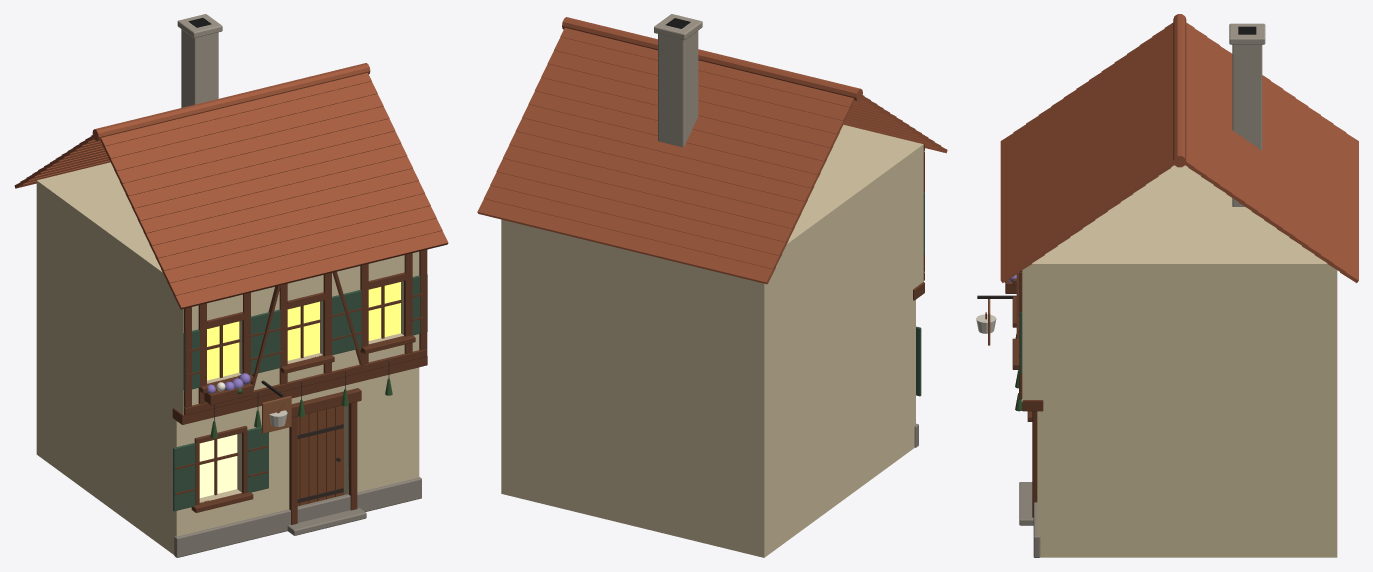
File: botica.glb
3 views of the same model, side by side, from view 1: azimuth 30°, elevation 25°; view 2: azimuth 150°, elevation 25°; view 3: azimuth 270°, elevation 25° (orthographic). The views are drawn at different scales.
Parts seen in each view (by area): view 1: botica_pa_dentro, botica_pb_dentro, botica_pb.005, botica_zocalo, botica_tejado_s_0, botica_tejado_s_11, botica_tejado_s_12, botica_tejado_s_2, botica_tejado_s_3, botica_tejado_s_7, botica_tejado_s_4, botica_tejado_s_5 (+53 smaller); view 2: botica_pb_dentro, botica_pa_dentro, botica_tejado_n_0, botica_tejado_n_1, botica_tejado_n_5, botica_tejado_n_2, botica_tejado_n_3, botica_tejado_n_6, botica_tejado_n_4, botica_tejado_n_7, botica_chimenea0, botica_tejado_n_8 (+9 smaller); view 3: botica_pa_dentro, botica_pb_dentro, botica_chimenea0, botica_pb.005, botica_pa.009, botica_tejado_cumbrera, botica_tejado_s_0, botica_tejado_s_11, botica_tejado_n_12, botica_tejado_s_5, botica_tejado_s_8, botica_tejado_n_4 (+25 smaller).
Boxes of the visible parts, x1,y1,x2,y2 form: botica_pa_dentro: (36,162,176,409); botica_pb_dentro: (36,307,168,550); botica_pb.005: (344,367,419,494); botica_zocalo: (174,477,421,557); botica_tejado_s_0: (173,230,448,309); botica_tejado_s_11: (108,94,383,171); botica_tejado_s_12: (102,81,377,159); botica_tejado_s_2: (161,206,436,283); botica_tejado_s_3: (155,193,430,271); botica_tejado_s_7: (131,143,407,222); botica_tejado_s_4: (149,181,424,258); botica_tejado_s_5: (143,168,418,245); botica_pb_dentro: (501,294,906,557); botica_pa_dentro: (501,131,915,398); botica_tejado_n_0: (477,199,775,284); botica_tejado_n_1: (484,185,782,270); botica_tejado_n_5: (509,131,807,215); botica_tejado_n_2: (490,172,788,255); botica_tejado_n_3: (496,158,794,242); botica_tejado_n_6: (516,118,814,201); botica_tejado_n_4: (503,145,801,228); botica_tejado_n_7: (522,104,820,188); botica_chimenea0: (658,31,698,147); botica_tejado_n_8: (528,91,826,174); botica_pa_dentro: (1037,165,1337,399); botica_pb_dentro: (1055,400,1337,557); botica_chimenea0: (1232,44,1262,206); botica_pb.005: (1037,400,1055,557); botica_pa.009: (1022,260,1037,399); botica_tejado_cumbrera: (1173,14,1186,167); botica_tejado_s_0: (1000,133,1019,282); botica_tejado_s_11: (1139,37,1158,186); botica_tejado_n_12: (1188,29,1207,177); botica_tejado_s_5: (1063,90,1082,238); botica_tejado_s_8: (1101,64,1120,212); botica_tejado_n_4: (1289,98,1308,247).
Size of the model in its own units: 5.6 by 8.53 by 6.38.
